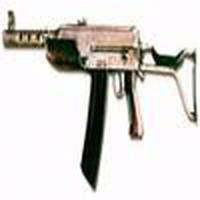gun: (1, 7, 199, 133)
